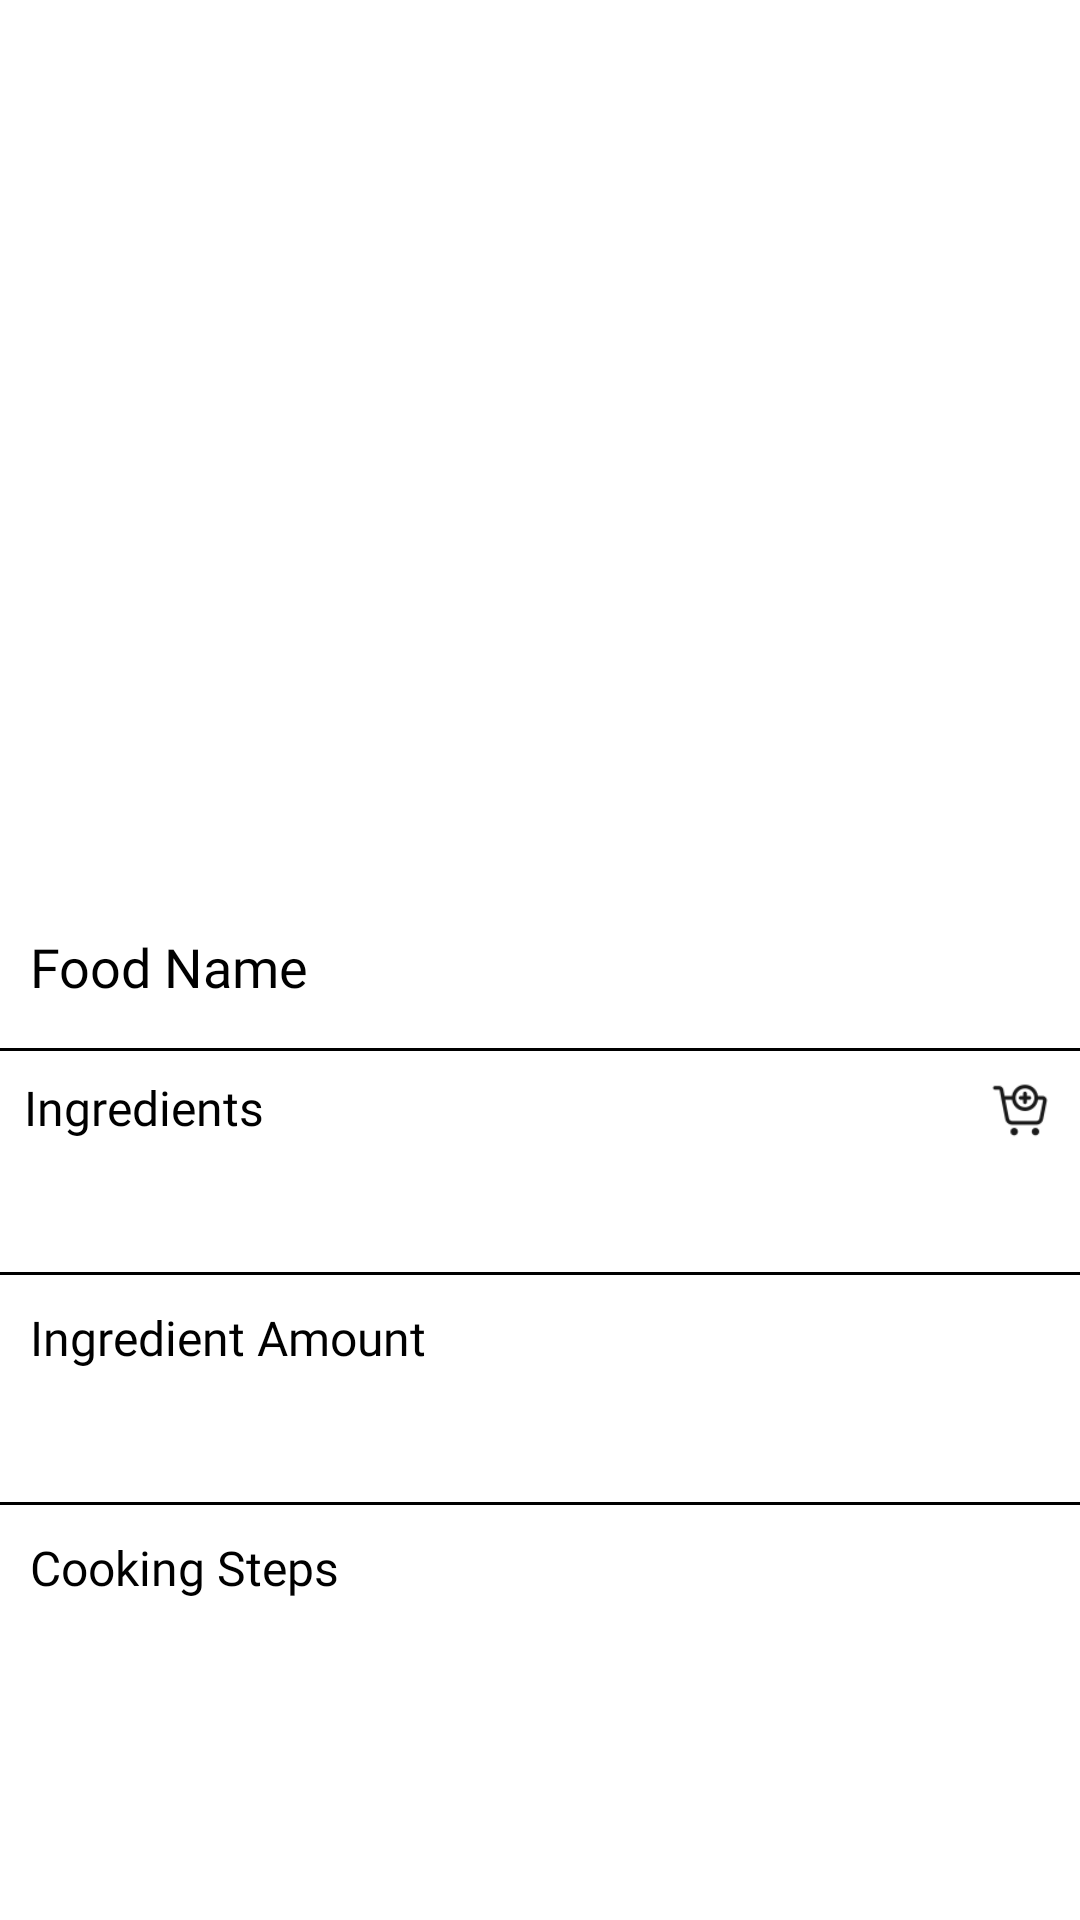

Named icons in this screenshot (1080*1920) and their centers, (x=x, y=y):
shoppingcart: (x=1020, y=1110)
